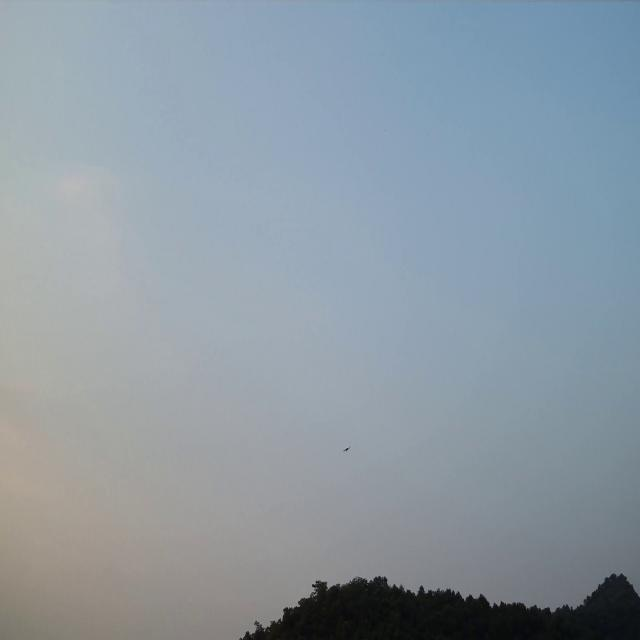UAV: (343, 446, 351, 453)
